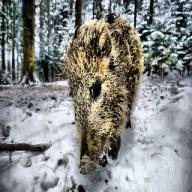boar: (57, 12, 144, 175)
